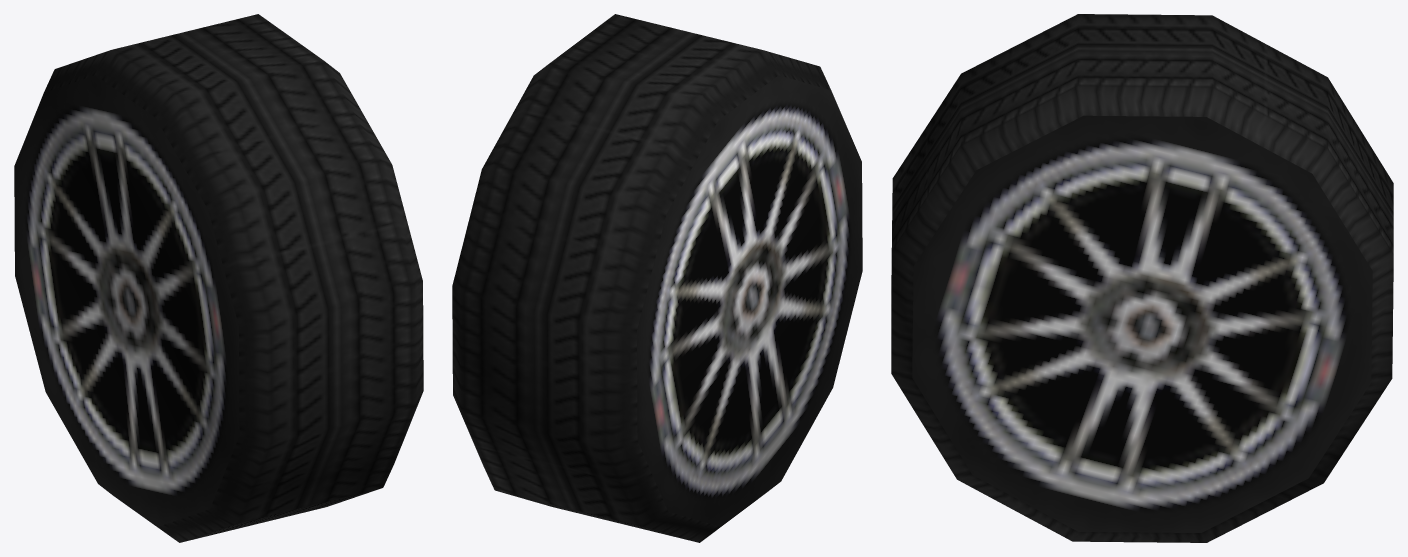
File: WheelExotic.FBX
3 views of the same model, side by side, from view 1: azimuth 30°, elevation 25°; view 2: azimuth 150°, elevation 25°; view 3: azimuth 270°, elevation 25° (orthographic). The views are drawn at different scales.
Visible parts, largest first — view 1: wheelExotic001; view 2: wheelExotic001; view 3: wheelExotic001.
Boxes of the visible parts, x1=… form: wheelExotic001: x1=14, y1=14, x2=423, y2=542; wheelExotic001: x1=452, y1=14, x2=862, y2=542; wheelExotic001: x1=891, y1=14, x2=1393, y2=542.
Size of the model in its own units: 35.34 by 81.74 by 81.74.
